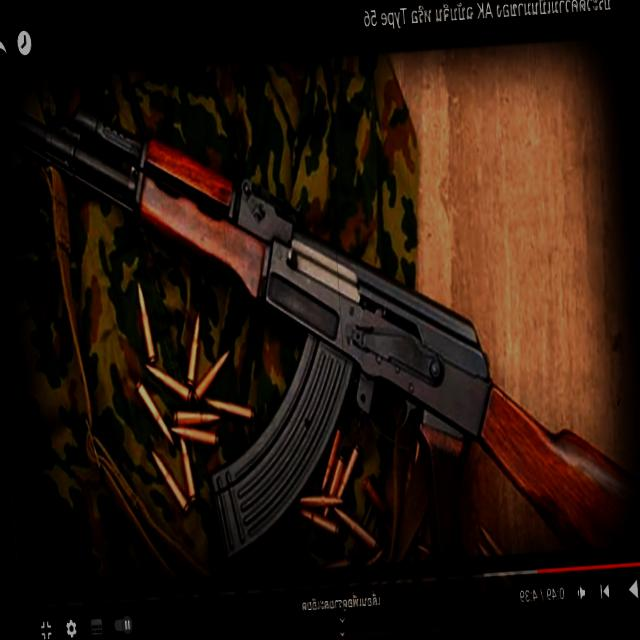ak: (1, 46, 640, 602)
